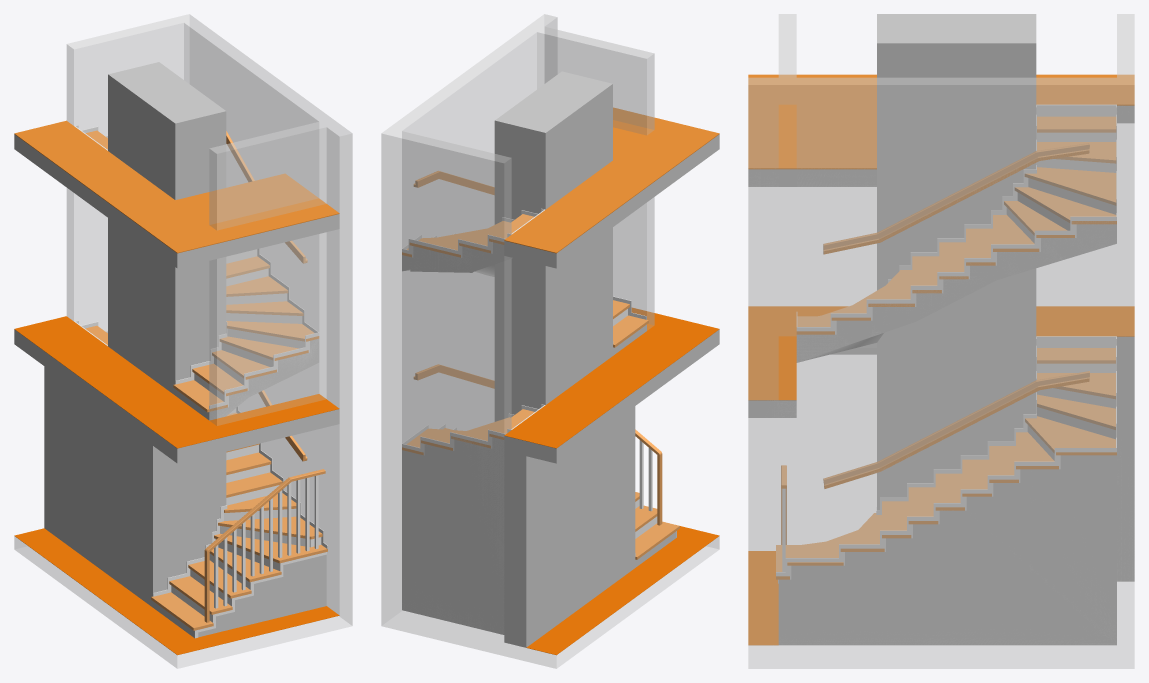
The model's file is устройство лестницы на бетонном основании.obj.
The picture shows the model from 3 angles, left to right: view 1: azimuth 30°, elevation 25°; view 2: azimuth 150°, elevation 25°; view 3: azimuth 270°, elevation 25°; orthographic projection. The views are drawn at different scales.
Bounding box in the file's own units: 2.68 × 7.2 × 4.32.
